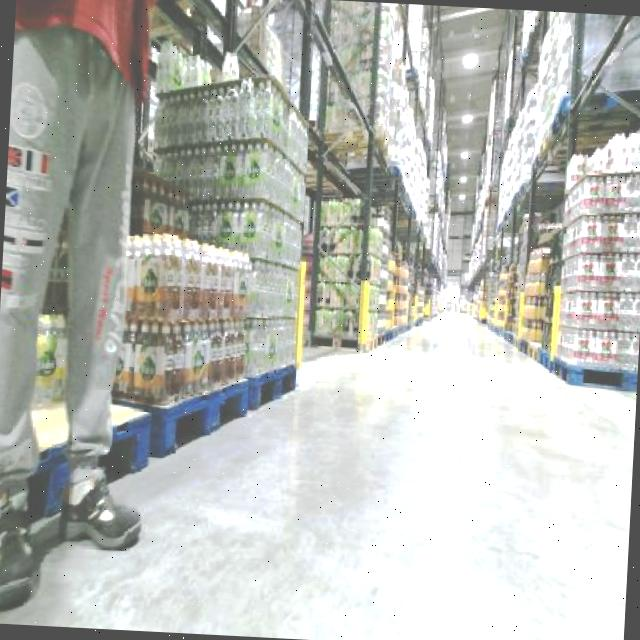ground: (0, 286, 640, 640)
pallet: (111, 65, 317, 462), (463, 8, 640, 398), (303, 162, 439, 357), (114, 228, 258, 410), (0, 390, 156, 550), (552, 119, 640, 391)
